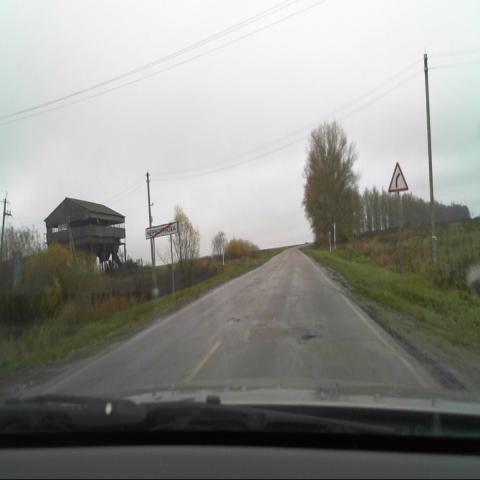1_11: (386, 160, 408, 194)
